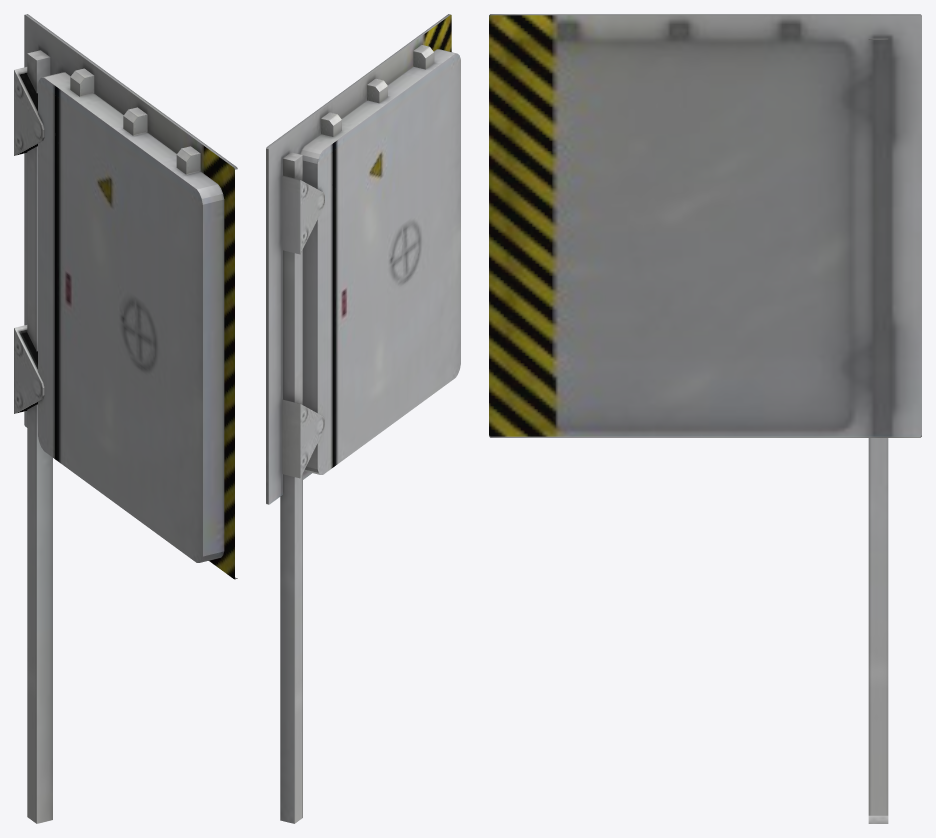
Rendered from PortesDextremite_ar01.fbx.
The picture shows the model from 3 angles, left to right: view 1: azimuth 30°, elevation 25°; view 2: azimuth 150°, elevation 25°; view 3: azimuth 270°, elevation 25°; orthographic projection. The views are drawn at different scales.
Visible parts, largest first — view 1: ShapeIndexedFaceSet_001; view 2: ShapeIndexedFaceSet_001; view 3: ShapeIndexedFaceSet_001.
Boxes of the visible parts, bbox=[...] form: ShapeIndexedFaceSet_001: bbox=[14, 14, 237, 823]; ShapeIndexedFaceSet_001: bbox=[266, 14, 460, 823]; ShapeIndexedFaceSet_001: bbox=[489, 14, 921, 823].
Size of the model in its own units: 0.183 by 5.27 by 2.56.
